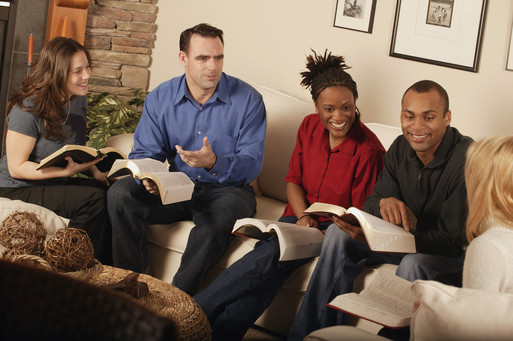Person: (161, 21, 258, 256), (281, 50, 366, 313), (4, 43, 104, 238), (391, 98, 459, 265)
